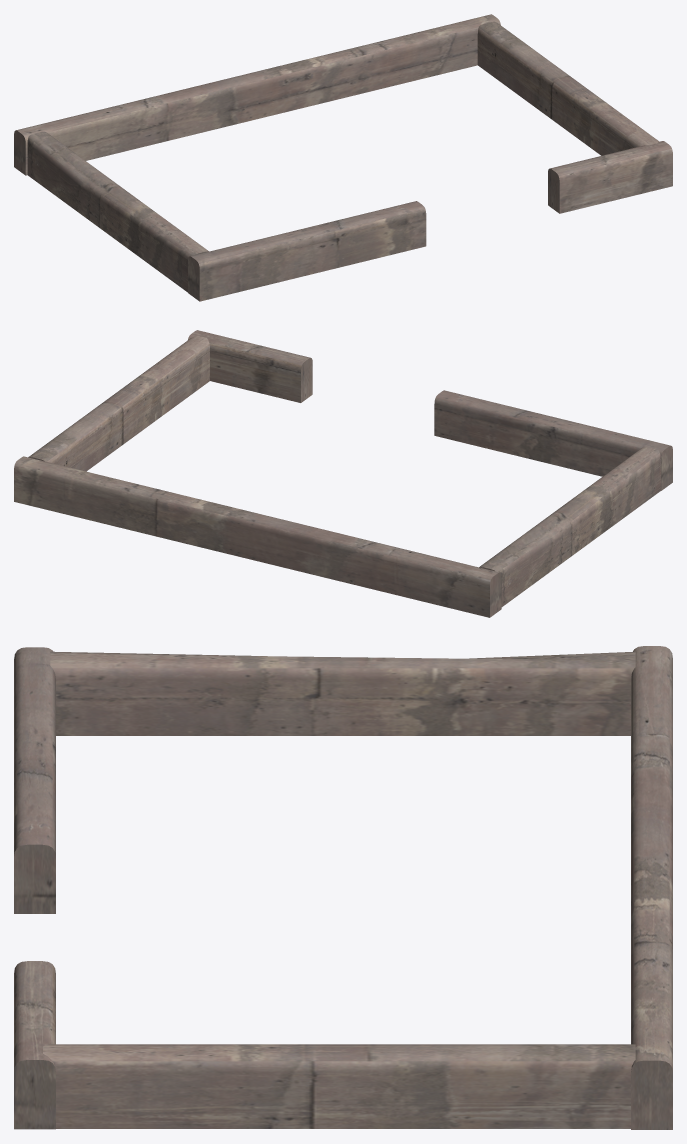
The model's file is wall mini.FBX.
The picture shows the model from 3 angles, top to bottom: view 1: azimuth 30°, elevation 25°; view 2: azimuth 150°, elevation 25°; view 3: azimuth 270°, elevation 25°; orthographic projection. The views are drawn at different scales.
Parts seen in each view (by area): view 1: wall mini; view 2: wall mini; view 3: wall mini.
Part boxes in pixels (x1=…): wall mini: x1=14, y1=14, x2=672, y2=301; wall mini: x1=14, y1=330, x2=672, y2=617; wall mini: x1=14, y1=646, x2=672, y2=1129.
Size of the model in its own units: 1143 by 89.15 by 768.
